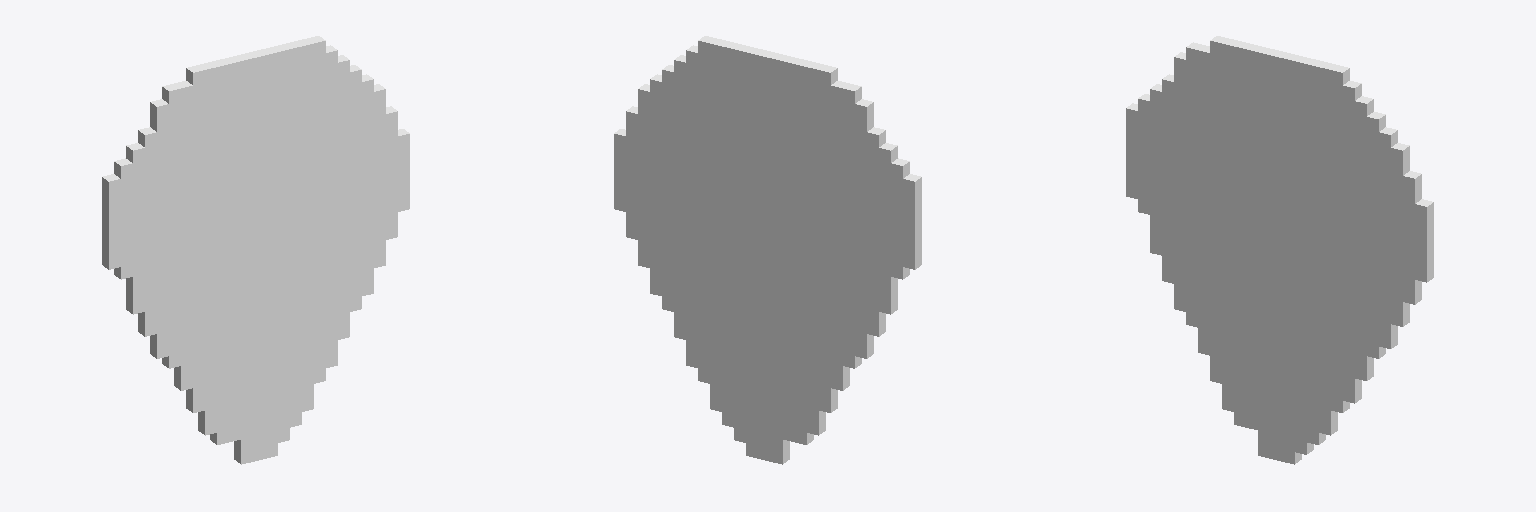
Rendered from v_scream.obj.
The picture shows the model from 3 angles: view 1: azimuth 30°, elevation 25°; view 2: azimuth 150°, elevation 25°; view 3: azimuth 330°, elevation 25°; orthographic projection.
Parts seen in each view (by area): view 1: object 1; view 2: object 1; view 3: object 1.
Boxes of the visible parts, x1,y1,x2,y2 form: object 1: [102, 36, 409, 464]; object 1: [614, 36, 921, 464]; object 1: [1126, 36, 1433, 464].
Bounding box in the file's own units: 2.5 × 3.2 × 0.1.